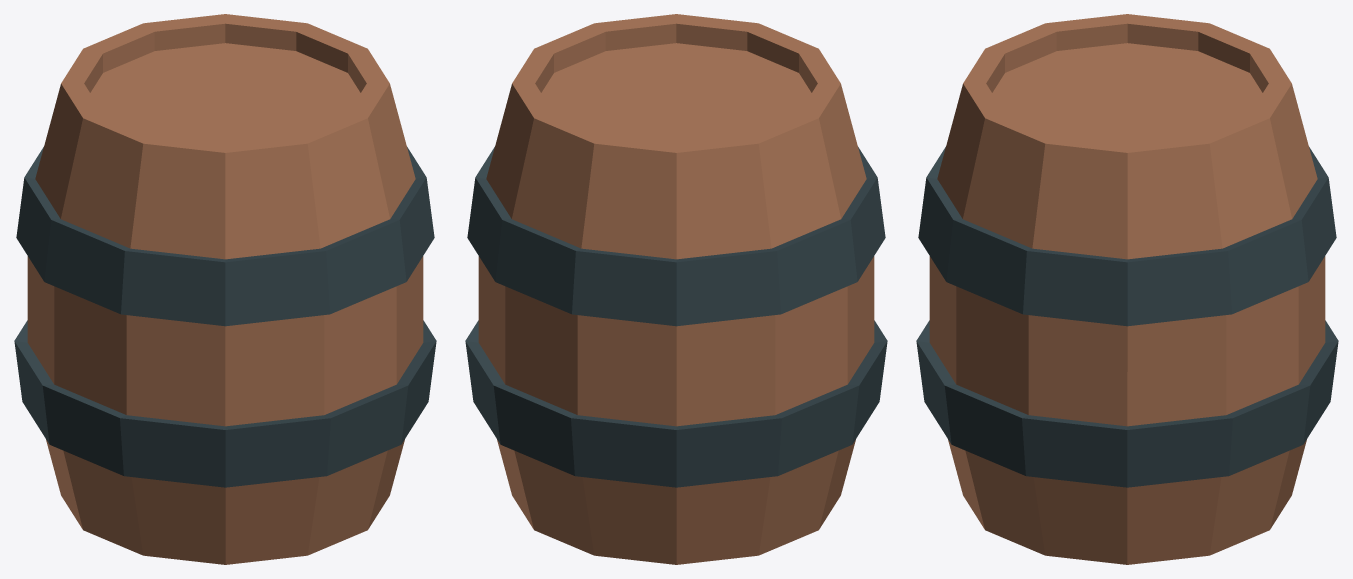
The model's file is barrel.fbx.
The picture shows the model from 3 angles, left to right: view 1: azimuth 30°, elevation 25°; view 2: azimuth 150°, elevation 25°; view 3: azimuth 270°, elevation 25°; orthographic projection.
Visible parts, largest first — view 1: Cylinder; view 2: Cylinder; view 3: Cylinder.
Part boxes in pixels (box(x1,y1,x2,y2)): Cylinder: box(14, 14, 436, 564); Cylinder: box(465, 14, 887, 564); Cylinder: box(916, 14, 1338, 564).
Size of the model in its own units: 257 by 276 by 257.
